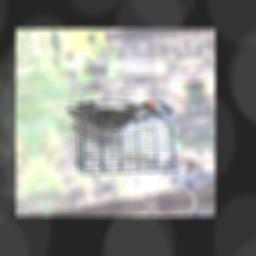Woodpecker: (63, 92, 185, 151)
